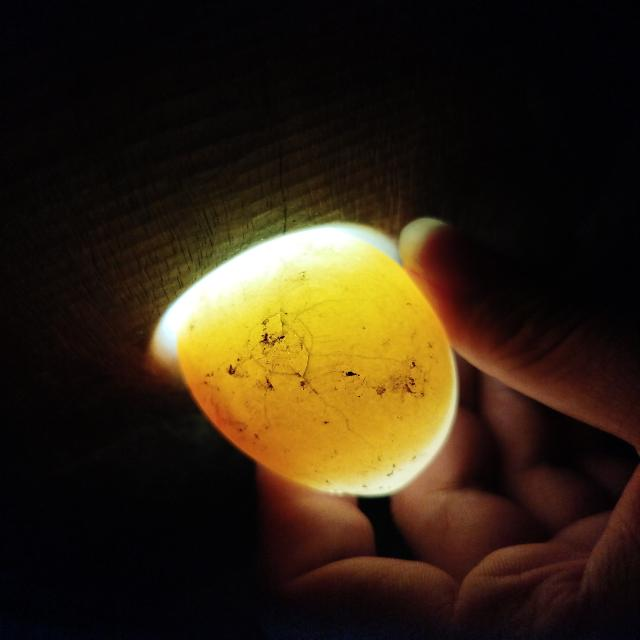Rachadura: (245, 299, 411, 445)
